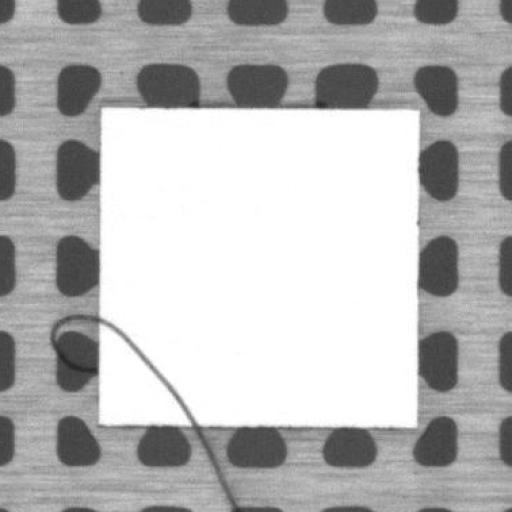DIE_INK: (103, 316, 194, 420)
